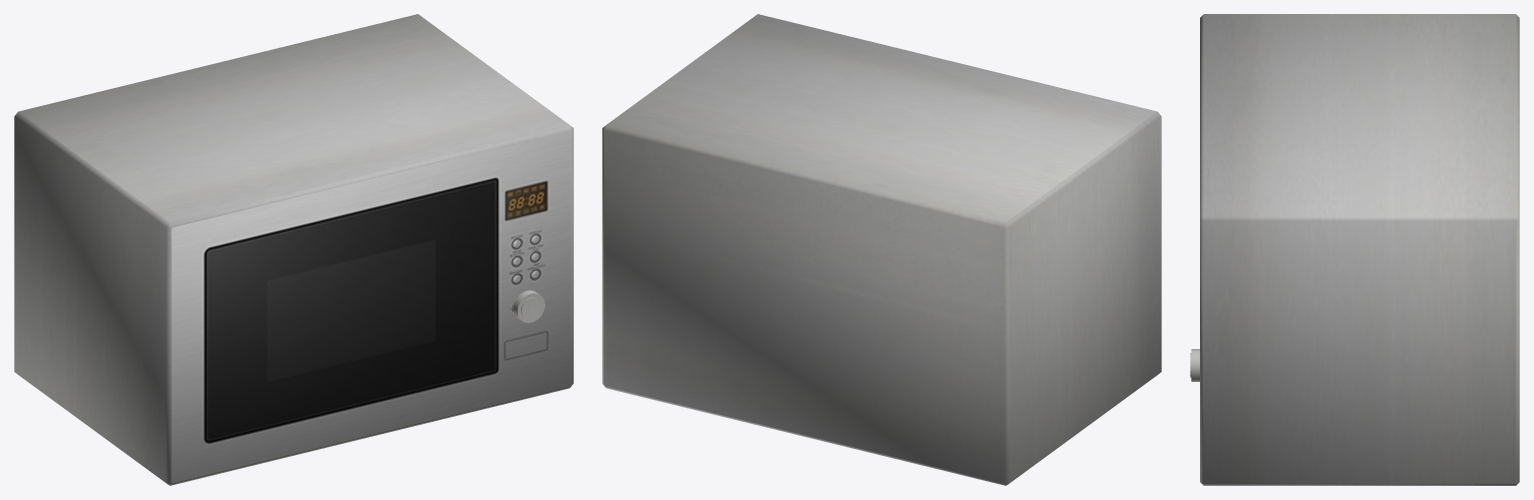
File: Microwave.FBX
The picture shows the model from 3 angles, left to right: view 1: azimuth 30°, elevation 25°; view 2: azimuth 150°, elevation 25°; view 3: azimuth 270°, elevation 25°; orthographic projection. The views are drawn at different scales.
Visible parts, largest first — view 1: Microwave; view 2: Microwave; view 3: Microwave.
Boxes of the visible parts, bbox=[...] form: Microwave: bbox=[14, 14, 573, 485]; Microwave: bbox=[602, 14, 1161, 485]; Microwave: bbox=[1190, 14, 1519, 485].
Bounding box in the file's own units: 48.4 × 30.67 × 32.96.
Materials: 1 (1 with a texture image).
